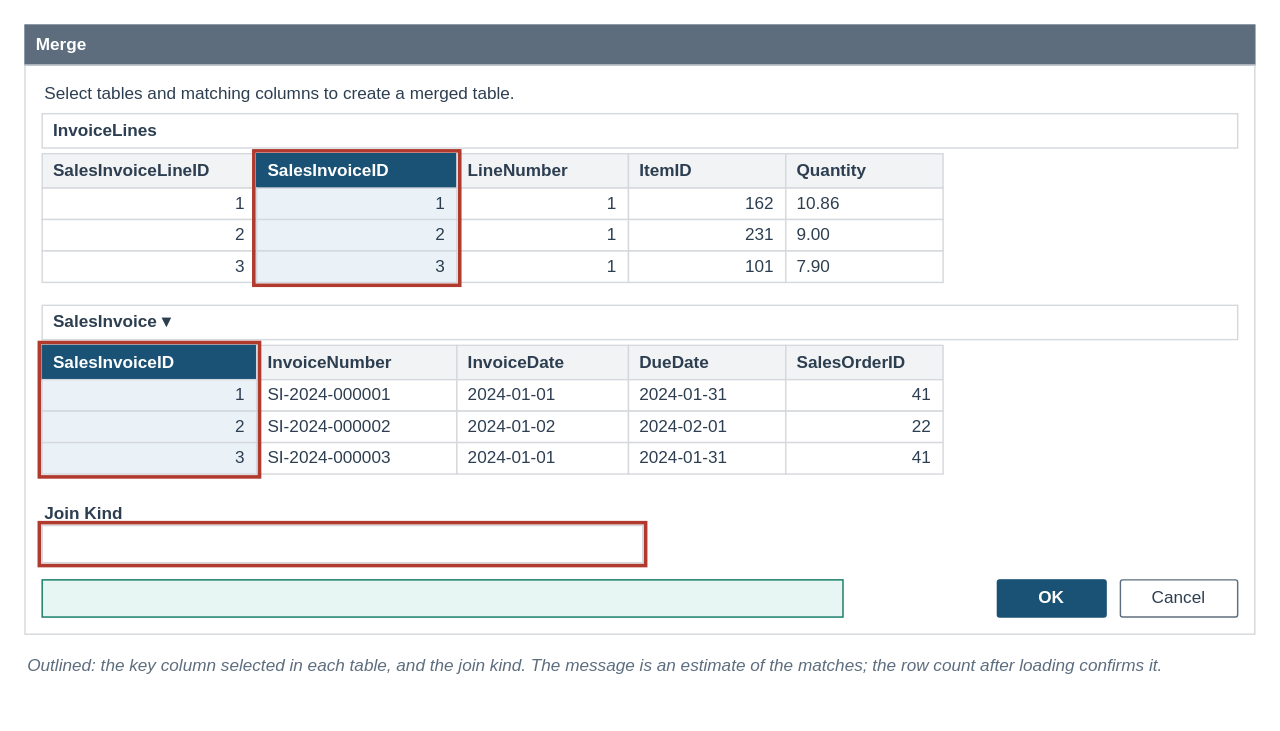
This 1280x731 diagram has some shape labels left out. Here are the shapes that lost their labels. From the top down, the centre of each, then its label:
At (x=342, y=543): "Left Outer (all from first, matching from second) ▾".
At (x=442, y=597): "The selection matches 27933 of 27933 rows from the first table.".
